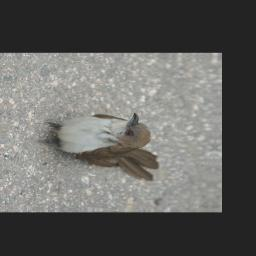Cuckoo: (33, 110, 164, 182)
